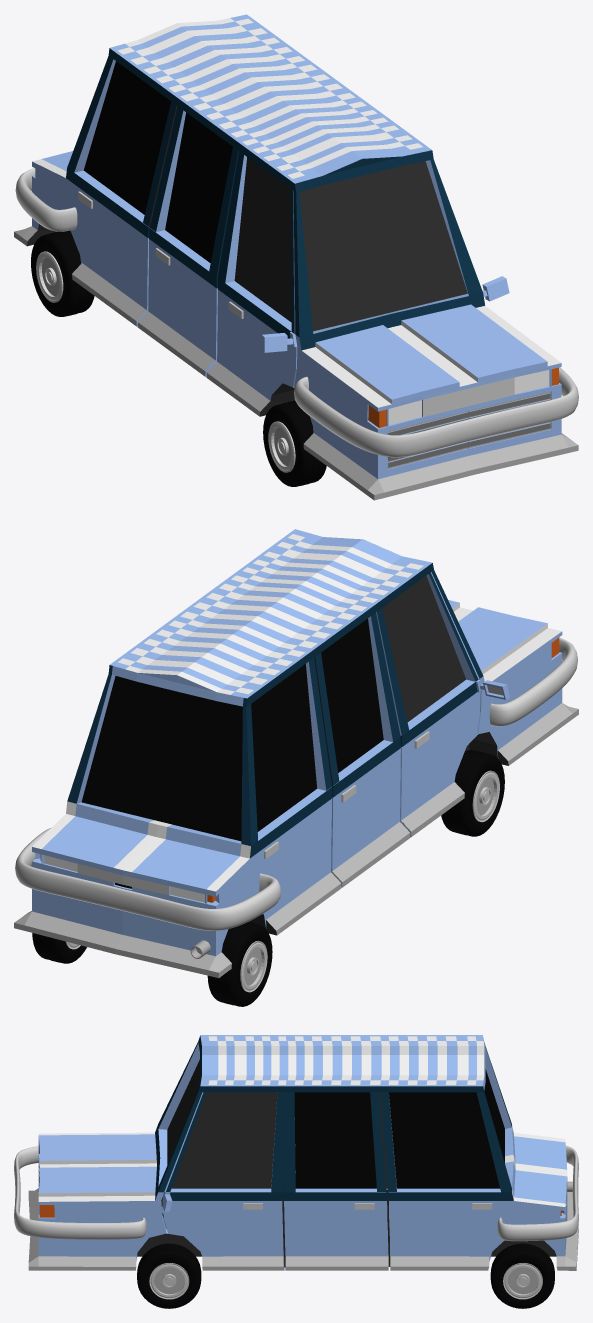
Rendered from CR-CAR-25A.fbx.
3 renders of one model, top to bottom at view 1: azimuth 30°, elevation 25°; view 2: azimuth 150°, elevation 25°; view 3: azimuth 270°, elevation 25°, orthographic. The views are drawn at different scales.
Parts seen in each view (by area): view 1: BODY, NurbsPath.001, WHEEL.004, WHEEL.001; view 2: BODY, NurbsPath.001, WHEEL.004, WHEEL.001, WHEEL.002; view 3: BODY, NurbsPath.001, WHEEL.003, WHEEL.002.
Boxes of the visible parts, <box> form: BODY: <box>14,14,578,500</box>; NurbsPath.001: <box>15,168,578,457</box>; WHEEL.004: <box>31,231,94,316</box>; WHEEL.001: <box>263,400,326,486</box>; BODY: <box>14,529,578,978</box>; NurbsPath.001: <box>15,637,577,930</box>; WHEEL.004: <box>207,922,272,1006</box>; WHEEL.001: <box>441,750,504,836</box>; WHEEL.002: <box>32,933,86,963</box>; BODY: <box>28,1035,578,1270</box>; NurbsPath.001: <box>14,1145,578,1241</box>; WHEEL.003: <box>137,1243,201,1308</box>; WHEEL.002: <box>490,1243,554,1308</box>.
Bounding box in the file's own units: 131 × 146 × 343.
